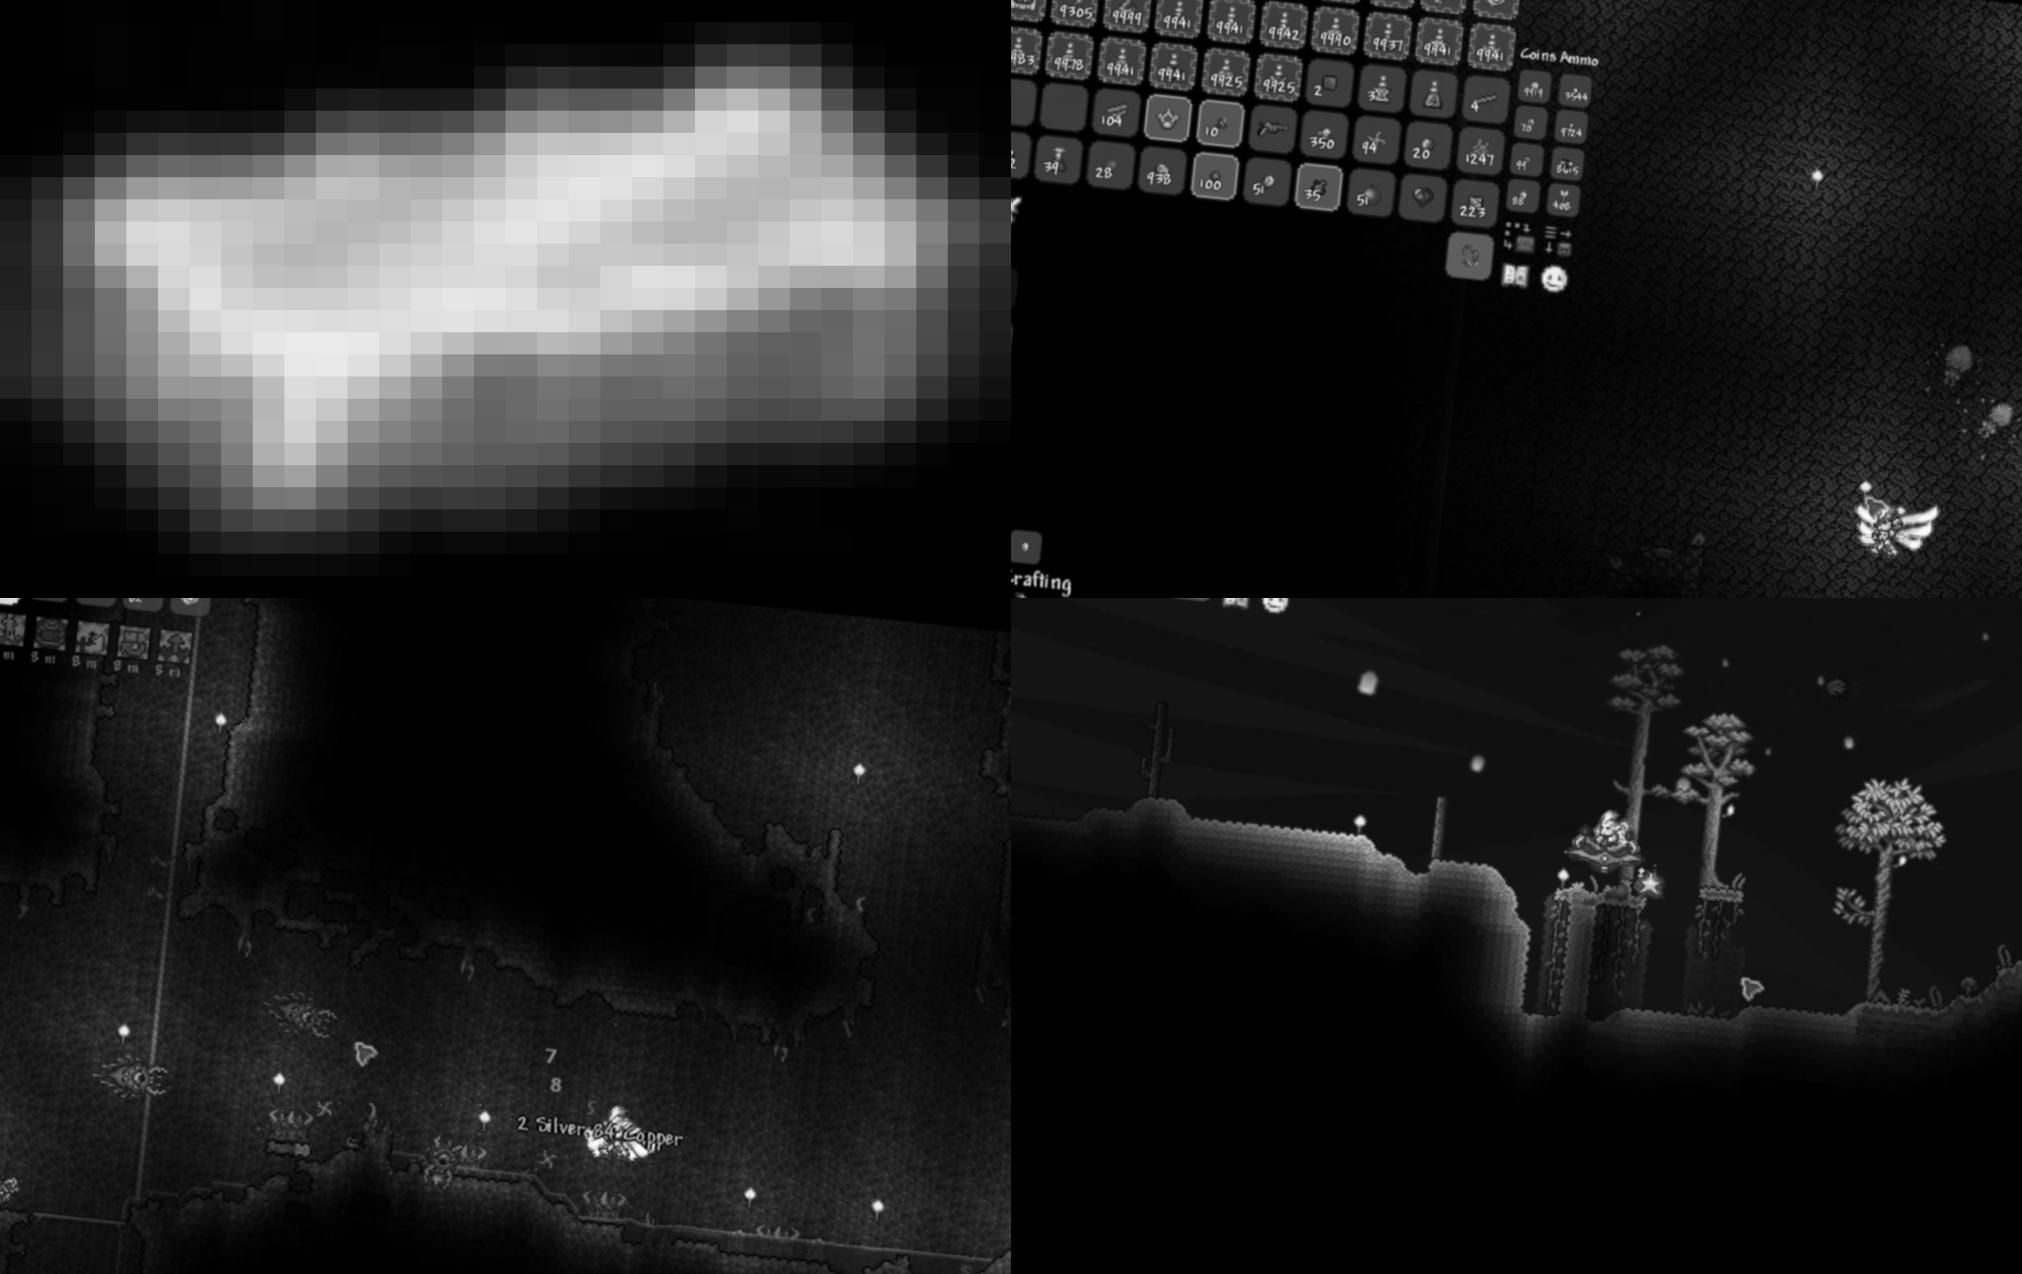bar: (0, 0, 1011, 597)
crimera: (254, 985, 348, 1048)
mirror: (1483, 0, 1510, 7)
